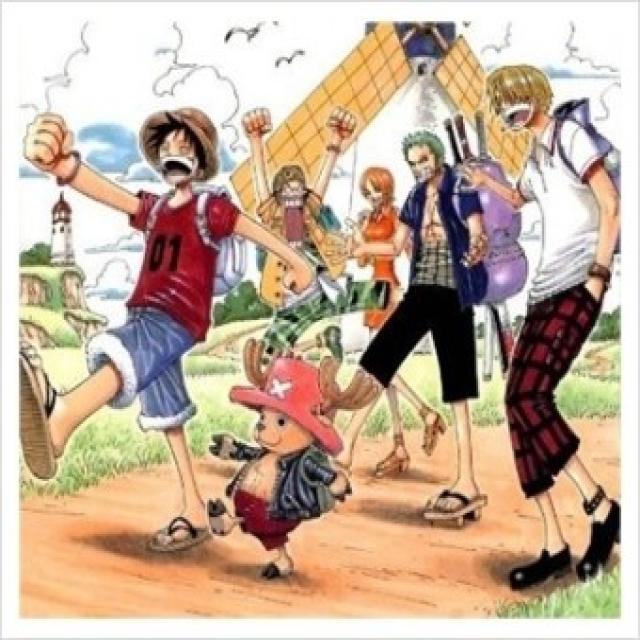Chyopa: (205, 345, 367, 595)
Nami: (134, 101, 228, 202), (356, 162, 398, 214)
Sangdi: (479, 52, 558, 141)
Usopp: (272, 164, 314, 250)
Zoro: (400, 126, 459, 200)
